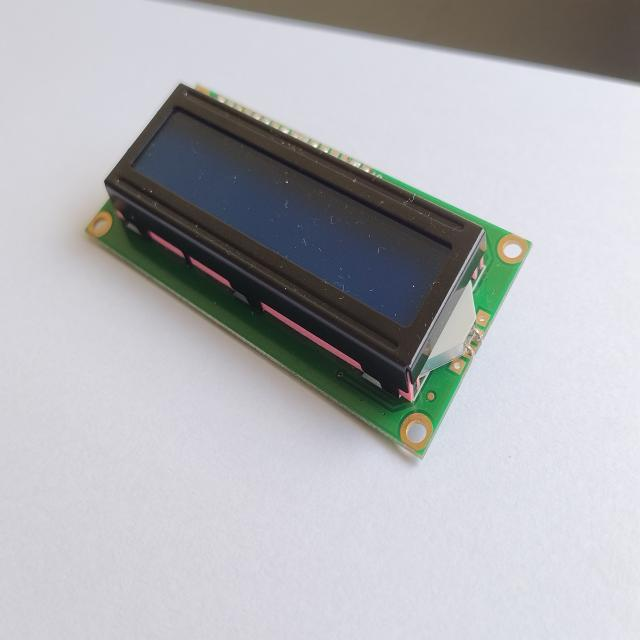lcd: (70, 60, 538, 470)
